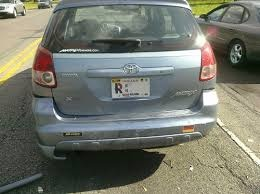Dent: (52, 129, 200, 158), (93, 104, 107, 114)
